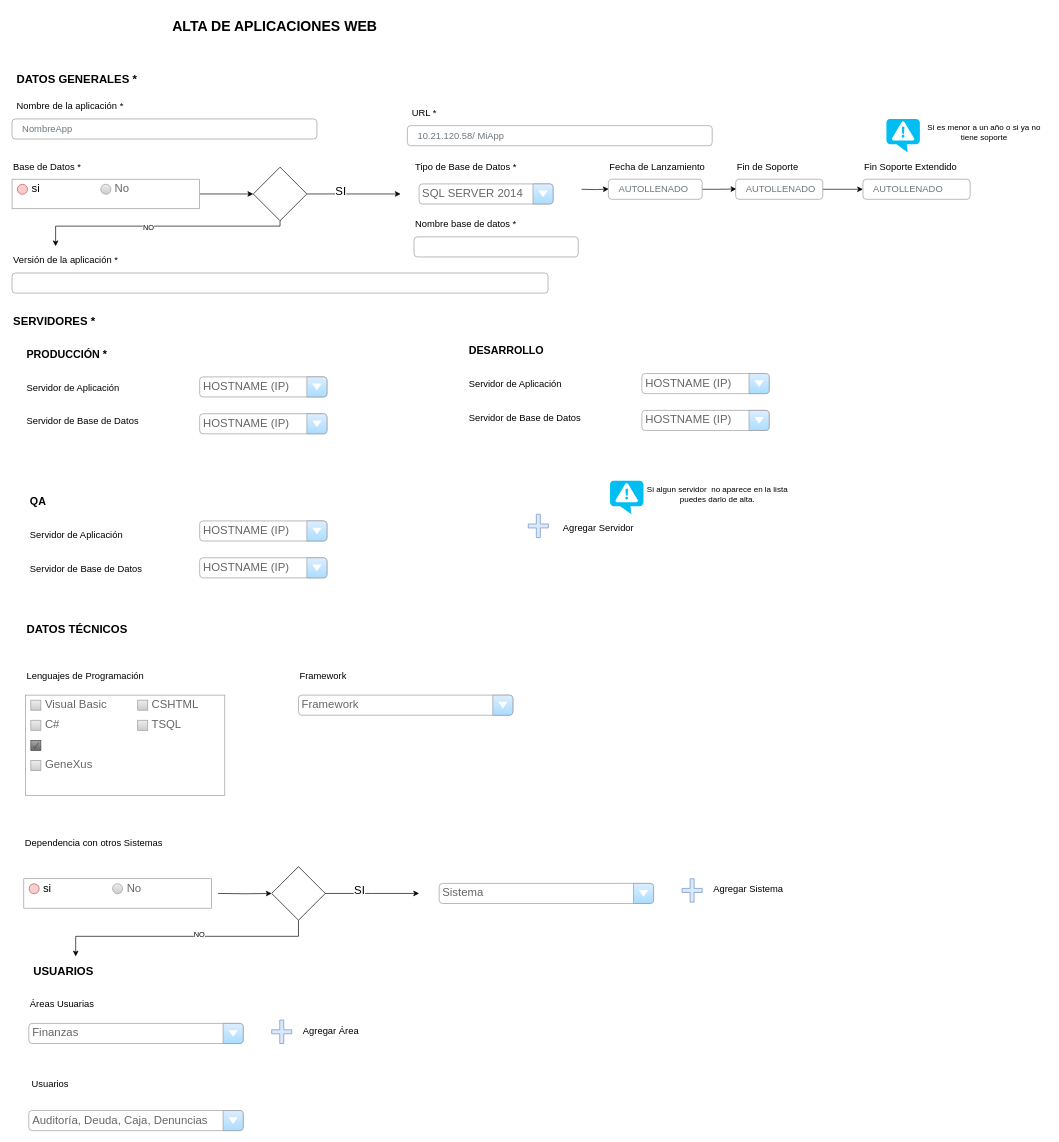
This 1059x1142 diagram has some shape labels left out. Here are the shapes that lost their labels. From the top down, the centre of each, then its label:
At (x=279, y=282): "VersionApp".
At (x=35, y=745): "JavaScript".
